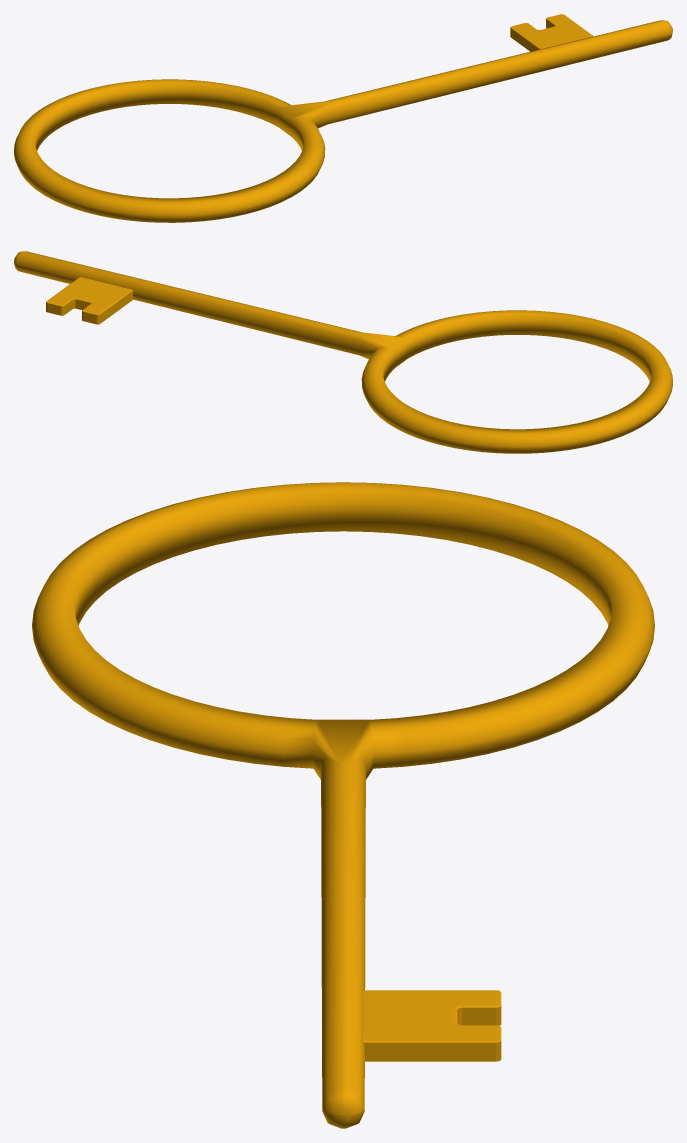
3 views of the same model, one above another, from view 1: azimuth 30°, elevation 25°; view 2: azimuth 150°, elevation 25°; view 3: azimuth 270°, elevation 25° (orthographic). The views are drawn at different scales.
Parts seen in each view (by area): view 1: Circle.001, 立方体; view 2: Circle.001, 立方体; view 3: Circle.001, 立方体.
Boxes of the visible parts, box(x1,y1,x2,y2) form: Circle.001: box(14, 20, 672, 222); 立方体: box(510, 14, 593, 51); Circle.001: box(14, 251, 672, 453); 立方体: box(46, 277, 133, 324); Circle.001: box(32, 482, 654, 1128); 立方体: box(363, 990, 501, 1061).
Bounding box in the file's own units: 253 × 7.72 × 107.
